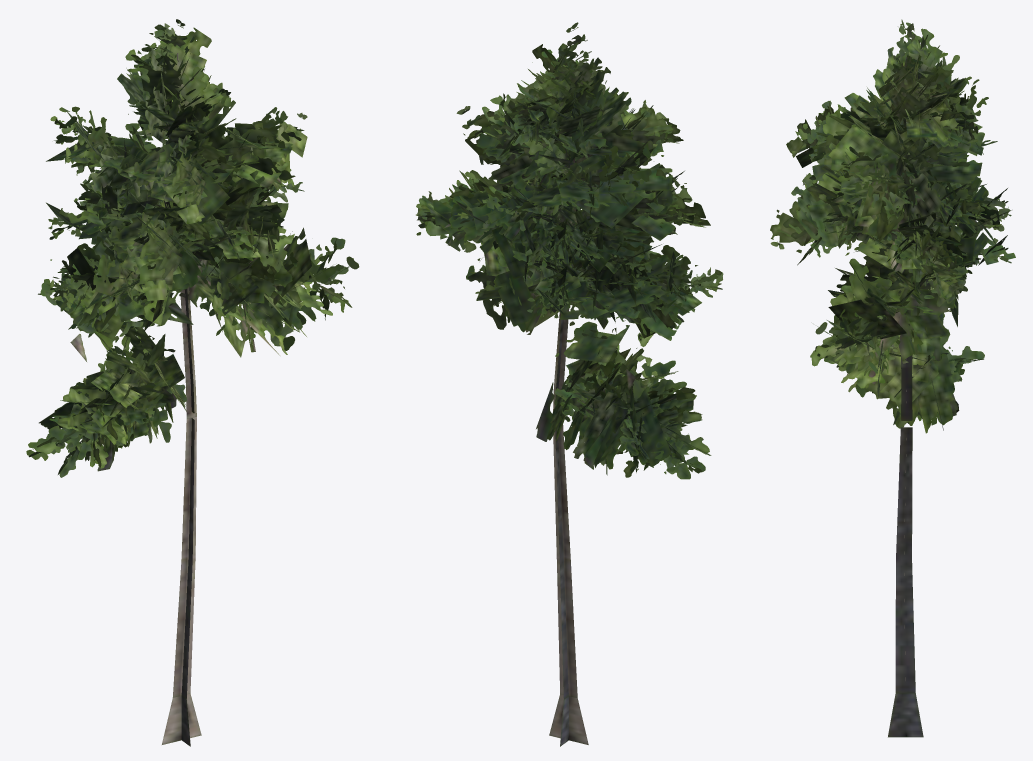
3 renders of one model, left to right at view 1: azimuth 30°, elevation 25°; view 2: azimuth 150°, elevation 25°; view 3: azimuth 270°, elevation 25°, orthographic.
Parts seen in each view (by area): view 1: El_high1; view 2: El_high1; view 3: El_high1.
Part boxes in pixels (box(x1,y1,x2,y2)): El_high1: box(26, 19, 359, 746); El_high1: box(416, 22, 723, 746); El_high1: box(770, 19, 1015, 737).
Size of the model in its own units: 651 by 1510 by 483.
